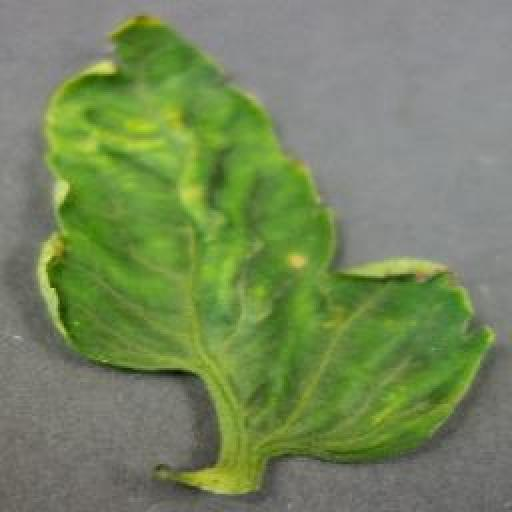Yellow Leaf Curl Virus: (39, 7, 496, 468)
